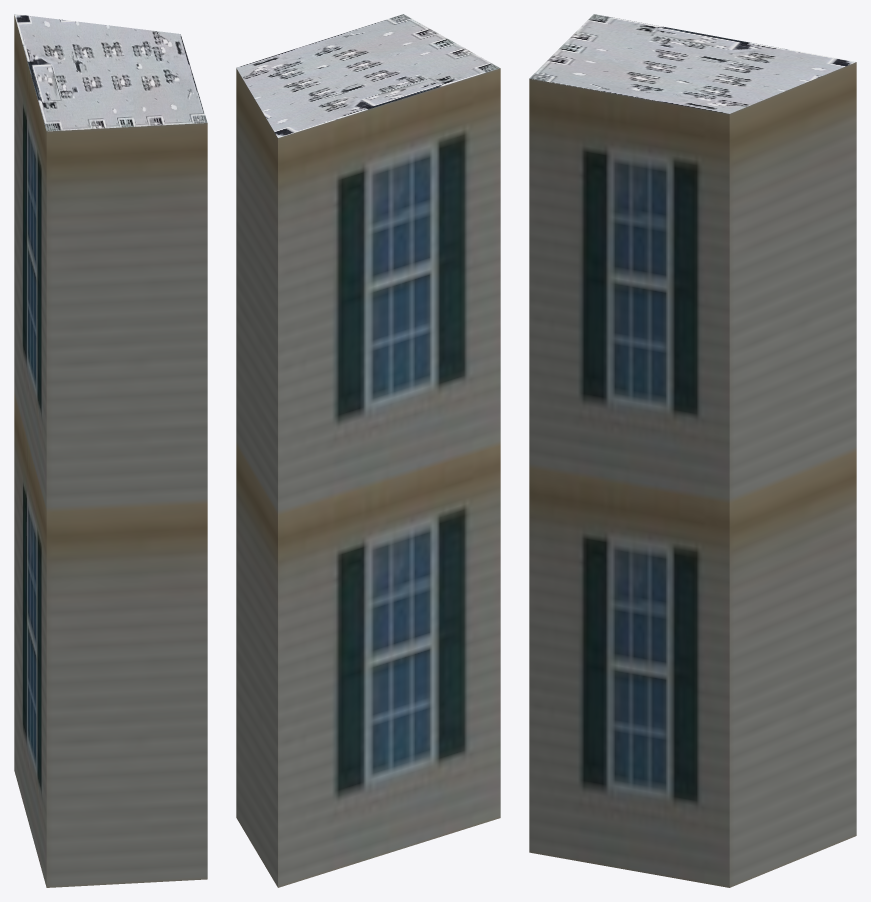
Rendered from ResTex__5024.fbx.
The picture shows the model from 3 angles, left to right: view 1: azimuth 30°, elevation 25°; view 2: azimuth 150°, elevation 25°; view 3: azimuth 270°, elevation 25°; orthographic projection. The views are drawn at different scales.
Parts seen in each view (by area): view 1: CityEngineMaterial_7_m, CityEngineMaterial_4_m; view 2: CityEngineMaterial_7_m, CityEngineMaterial_4_m; view 3: CityEngineMaterial_7_m, CityEngineMaterial_4_m.
Part boxes in pixels (bbox=[...]): CityEngineMaterial_7_m: bbox=[14, 15, 207, 887]; CityEngineMaterial_4_m: bbox=[14, 14, 207, 131]; CityEngineMaterial_7_m: bbox=[236, 68, 500, 887]; CityEngineMaterial_4_m: bbox=[236, 14, 500, 137]; CityEngineMaterial_7_m: bbox=[529, 62, 856, 887]; CityEngineMaterial_4_m: bbox=[529, 14, 855, 113].
Bounding box in the file's own units: 1.66 × 6 × 2.3.
2 materials, 2 textured.
